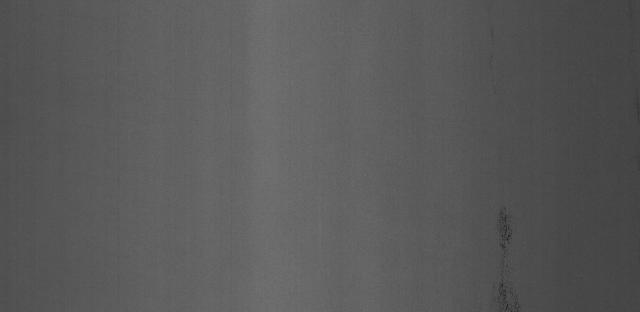inclusion: (487, 202, 532, 311)
